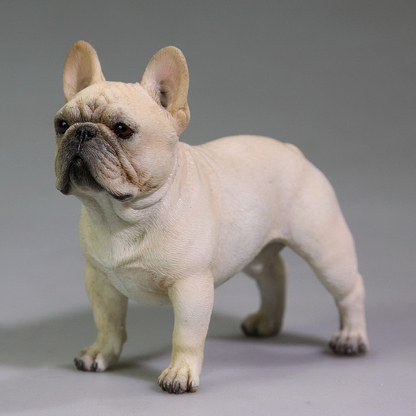bulldog: (50, 39, 377, 394)
